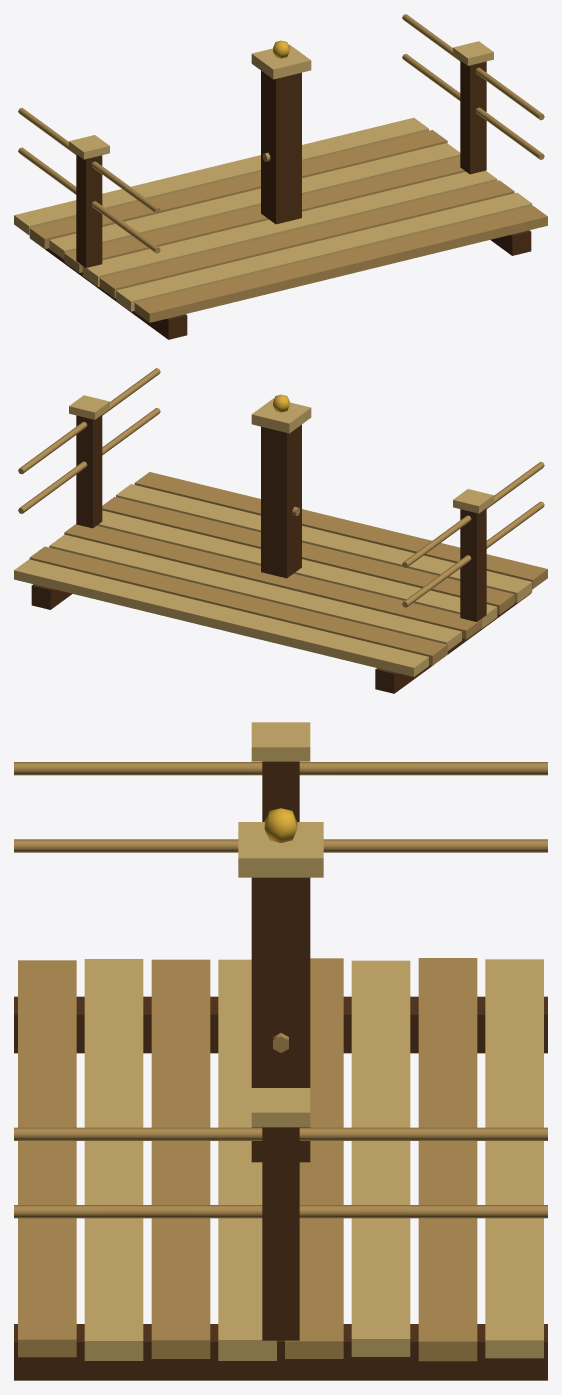
Rendered from bridge.glb.
The picture shows the model from 3 angles, top to bottom: view 1: azimuth 30°, elevation 25°; view 2: azimuth 150°, elevation 25°; view 3: azimuth 270°, elevation 25°; orthographic projection. The views are drawn at different scales.
Visible parts, largest first — view 1: bridge_seg, bridge_post_end; view 2: bridge_seg, bridge_post_end; view 3: bridge_seg, bridge_post_end.
Boxes of the visible parts, box(x1,y1,x2,y2) form: bridge_seg: box(14, 14, 547, 339); bridge_post_end: box(251, 40, 311, 224); bridge_seg: box(14, 368, 547, 693); bridge_post_end: box(251, 394, 311, 578); bridge_seg: box(14, 722, 547, 1380); bridge_post_end: box(238, 808, 323, 1162).
Size of the model in its own units: 3.46 by 1.65 by 2.
